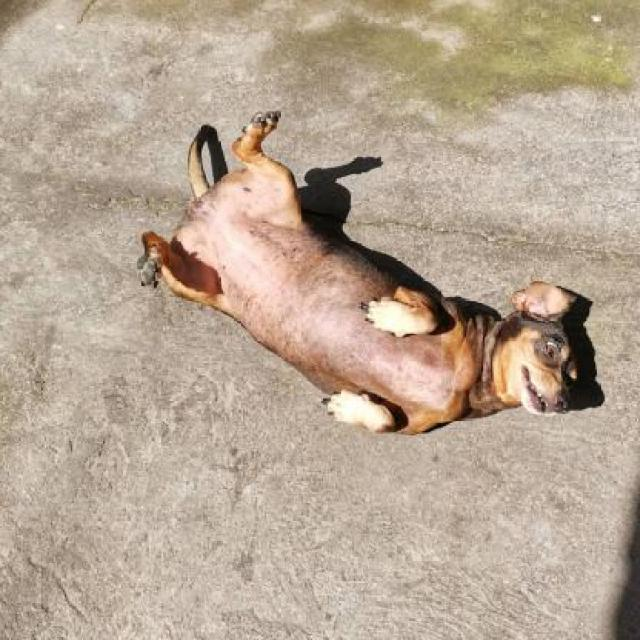Dog: (137, 108, 588, 438)
